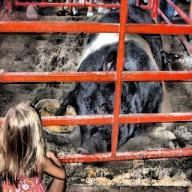boar: (50, 3, 181, 167)
